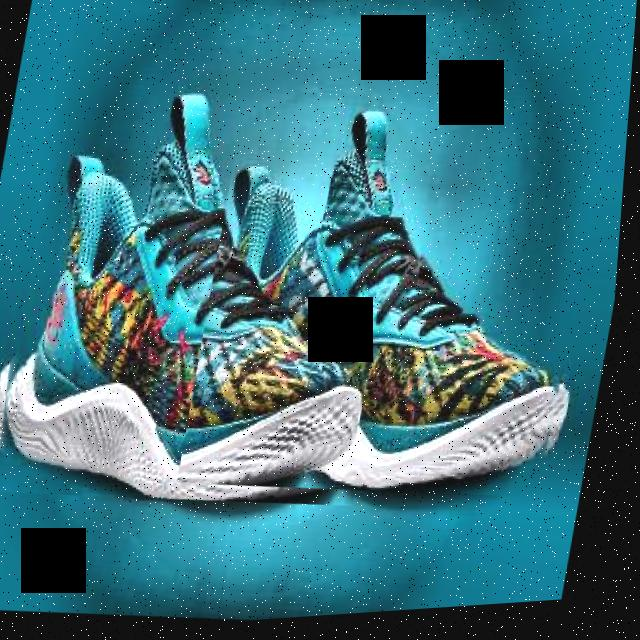shoe: (0, 79, 427, 531), (182, 88, 621, 525)
